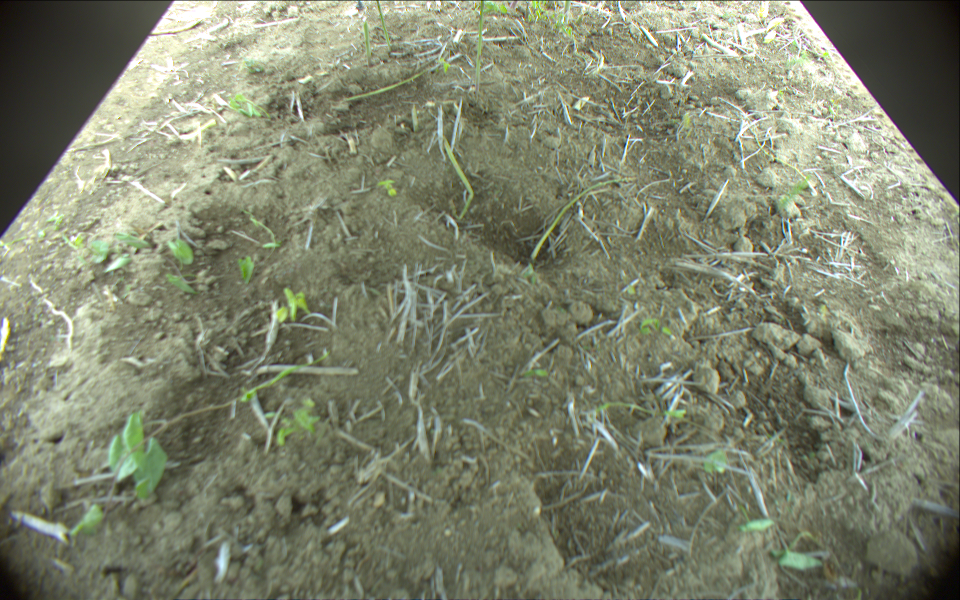aspa: (534, 172, 635, 262), (341, 58, 442, 102), (439, 129, 479, 228), (475, 1, 487, 89), (376, 1, 394, 48), (362, 20, 375, 61), (565, 1, 570, 27)
